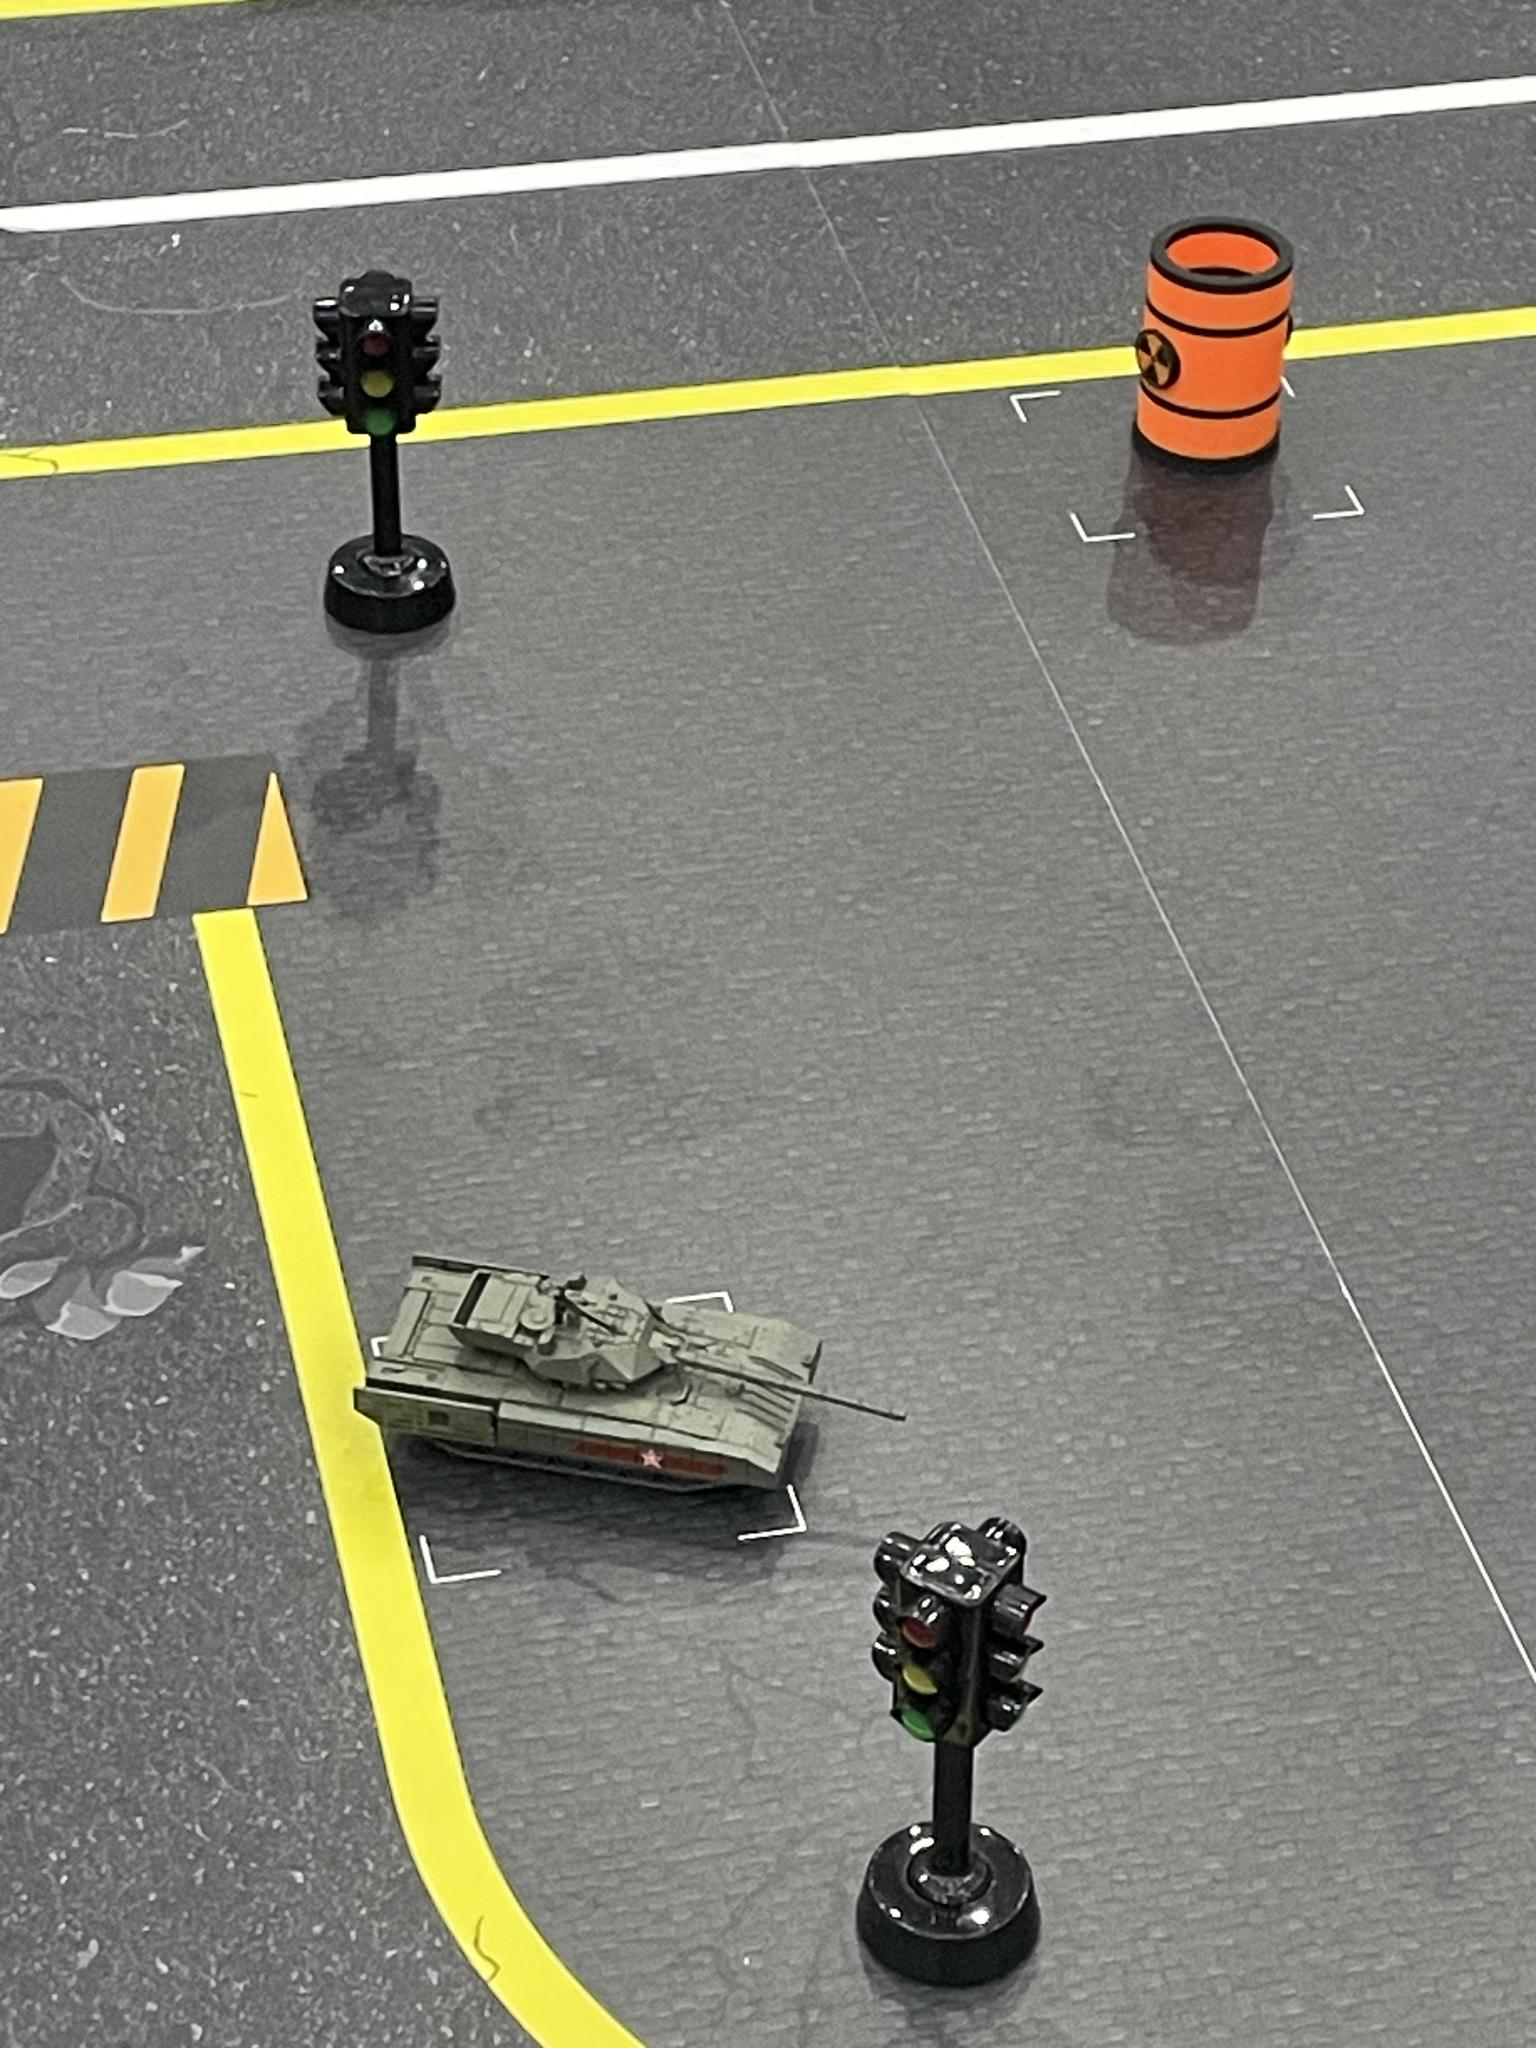Hazmat: (1123, 211, 1321, 483)
Tank: (348, 1242, 917, 1516)
